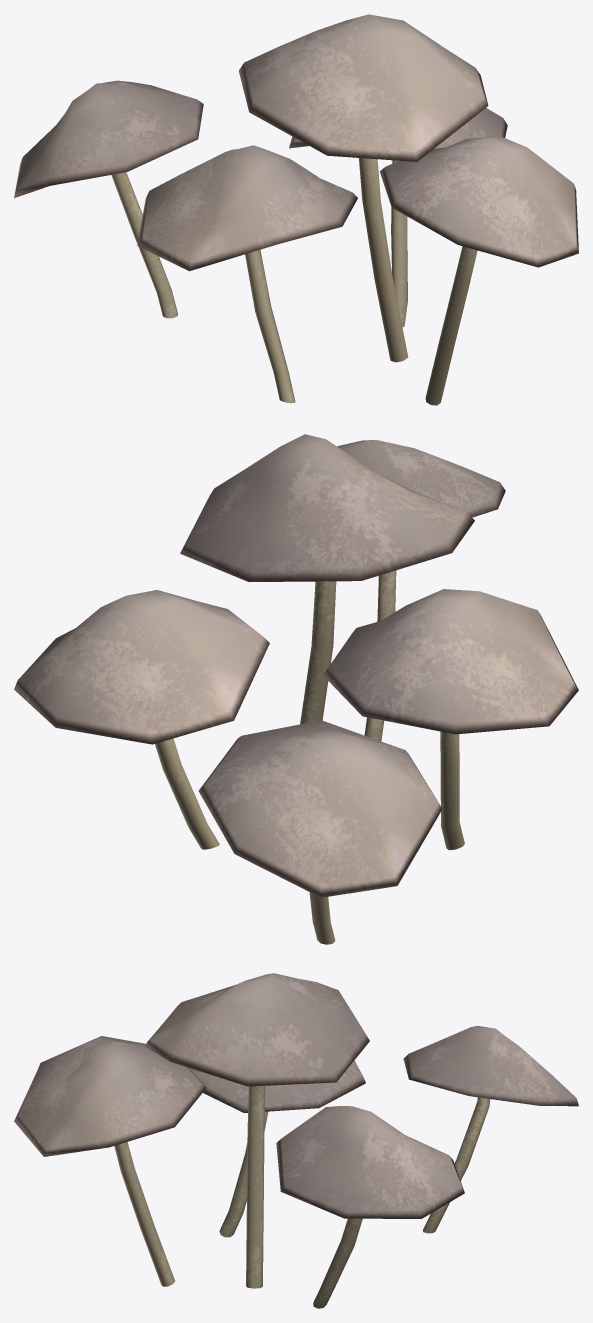
File: mushroom-transformed.glb
The picture shows the model from 3 angles, top to bottom: view 1: azimuth 30°, elevation 25°; view 2: azimuth 150°, elevation 25°; view 3: azimuth 270°, elevation 25°; orthographic projection. The views are drawn at different scales.
Parts seen in each view (by area): view 1: Mushroom_Common; view 2: Mushroom_Common; view 3: Mushroom_Common.
Boxes of the visible parts, x1=… form: Mushroom_Common: x1=14, y1=14, x2=578, y2=405; Mushroom_Common: x1=14, y1=434, x2=578, y2=944; Mushroom_Common: x1=14, y1=973, x2=578, y2=1308.
Bounding box in the file's own units: 0.5637 × 0.4635 × 0.7791.
Materials: 1 (1 with a texture image).
